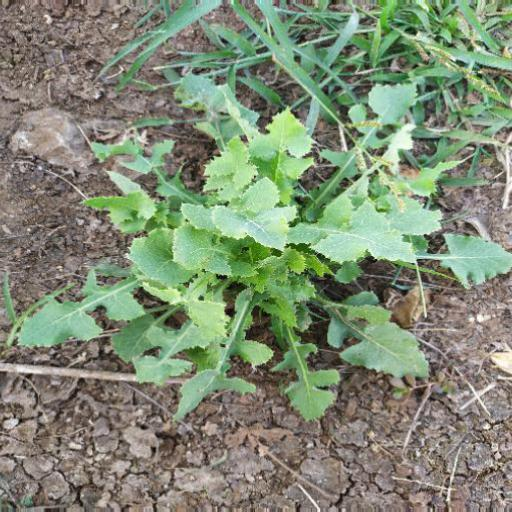weed: (37, 124, 493, 427)
